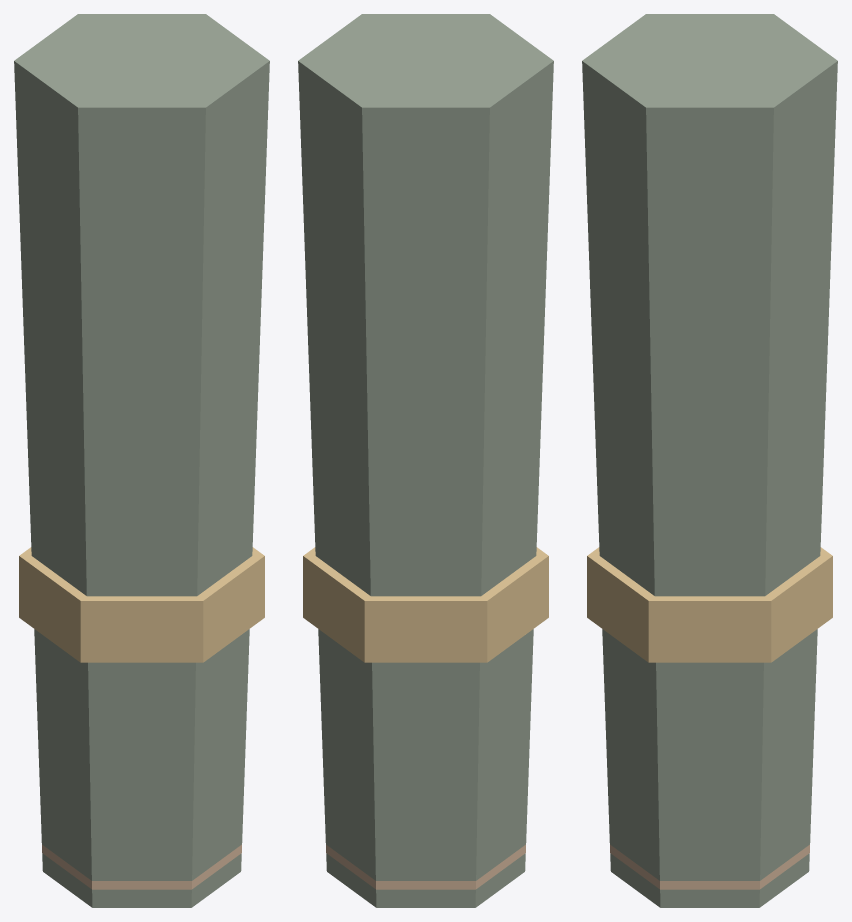
File: npc_arm_01.glb
3 views of the same model, side by side, from view 1: azimuth 30°, elevation 25°; view 2: azimuth 150°, elevation 25°; view 3: azimuth 270°, elevation 25° (orthographic).
Visible parts, largest first — view 1: npc_arm_01; view 2: npc_arm_01; view 3: npc_arm_01.
Boxes of the visible parts, <box> form: npc_arm_01: <box>14,14,269,907</box>; npc_arm_01: <box>298,14,553,907</box>; npc_arm_01: <box>582,14,837,907</box>.
Size of the model in its own units: 0.1136 by 0.4746 by 0.1312.
